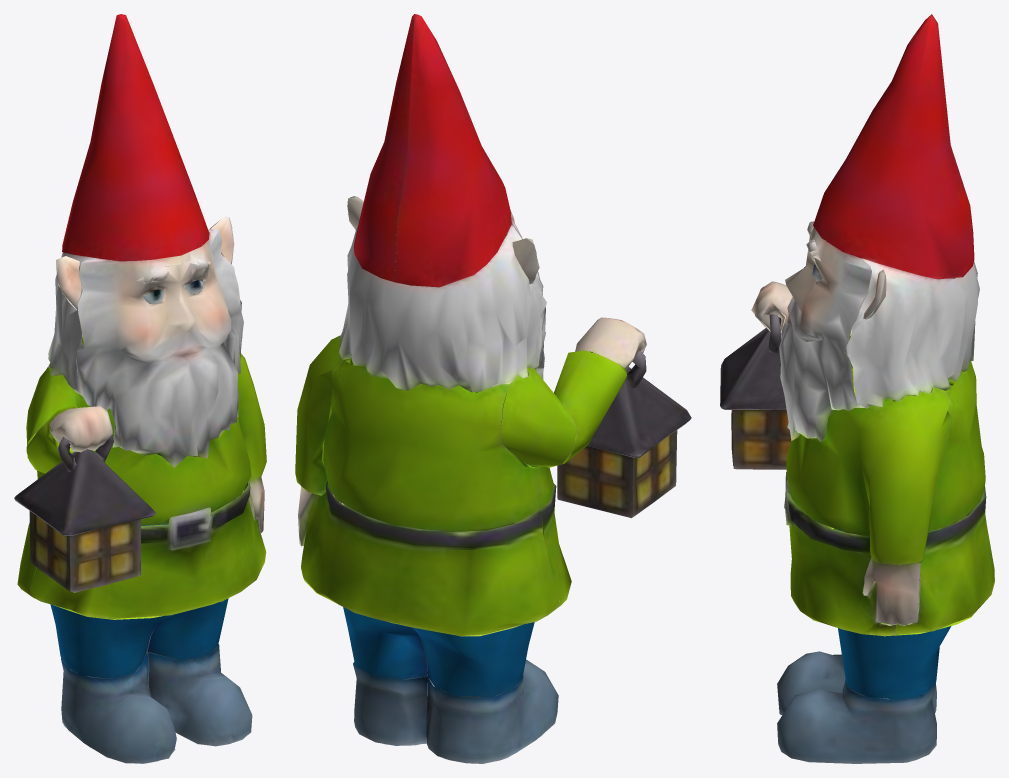
File: garden_gnome.glb
3 renders of one model, left to right at view 1: azimuth 30°, elevation 25°; view 2: azimuth 150°, elevation 25°; view 3: azimuth 270°, elevation 25°, orthographic. The views are drawn at different scales.
Visible parts, largest first — view 1: garden_gnome; view 2: garden_gnome; view 3: garden_gnome.
Part boxes in pixels (left/top/right/bottom): garden_gnome: left=14, top=14, right=266, bottom=763; garden_gnome: left=295, top=14, right=691, bottom=763; garden_gnome: left=720, top=14, right=994, bottom=763.
Size of the model in its own units: 0.2588 by 0.5993 by 0.2097.
Materials: 1 (1 with a texture image).
